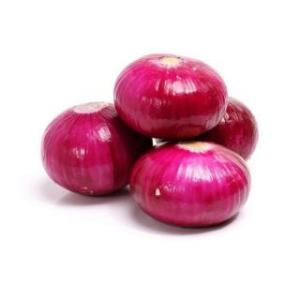onion: (39, 100, 153, 200), (129, 140, 251, 230), (112, 50, 226, 142), (147, 91, 256, 159)
